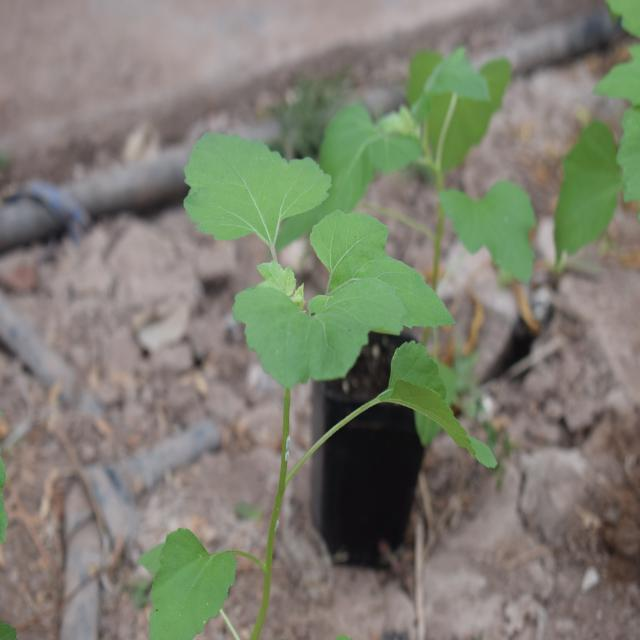cocklebur: (154, 133, 462, 484)
